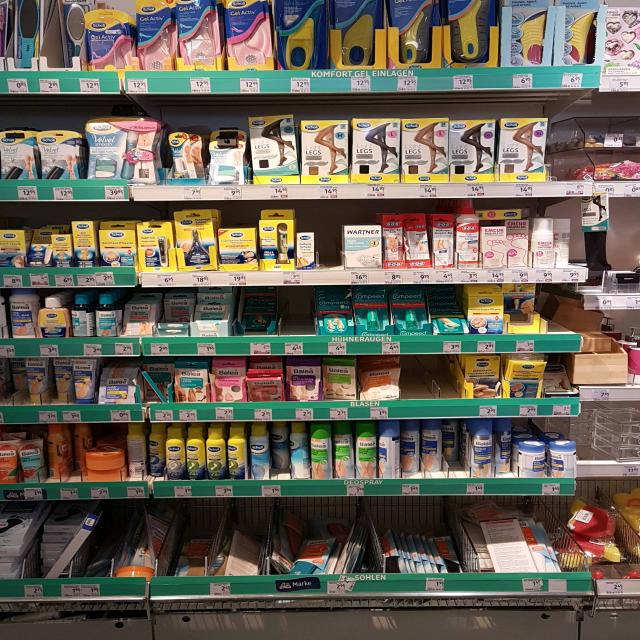void: (334, 505, 376, 592), (92, 507, 130, 603), (400, 503, 439, 593), (270, 507, 302, 596), (316, 205, 349, 288), (408, 361, 454, 418), (600, 413, 636, 482), (288, 286, 315, 355)
